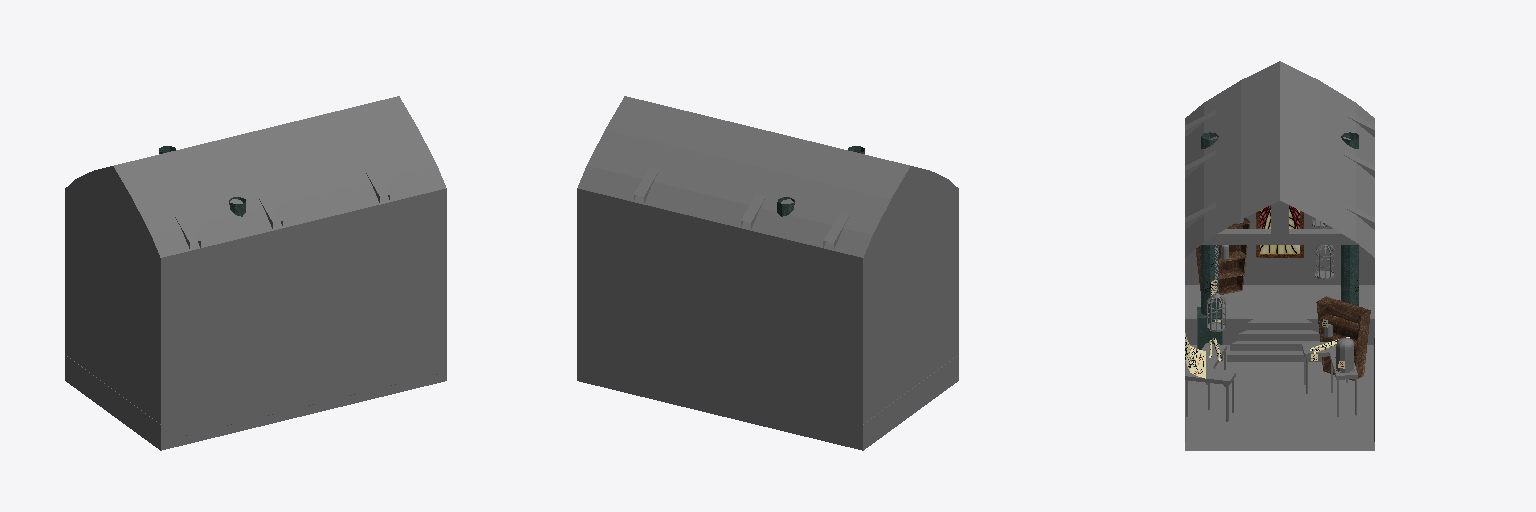
The picture shows the model from 3 angles: view 1: azimuth 30°, elevation 25°; view 2: azimuth 150°, elevation 25°; view 3: azimuth 270°, elevation 25°; orthographic projection.
Visible parts, largest first — view 1: SongBG Walls, SongBG Ceiling; view 2: SongBG Walls, SongBG Ceiling; view 3: SongBG Ceiling, SongBG Floor, SongBG Stairs, SongBG Walls, SongBG Bookshelf1, SongBG CeilingSupport1, SongBG Pillar1, SongBG Bookshelf, SongBG Pillar2, SongBG StainedGlass, SongBG CeilingSupport3, SongBG pCube4 Table1 (+3 smaller).
Boxes of the visible parts, x1=… form: SongBG Walls: x1=65, y1=166, x2=446, y2=450; SongBG Ceiling: x1=114, y1=96, x2=445, y2=257; SongBG Walls: x1=577, y1=166, x2=958, y2=450; SongBG Ceiling: x1=578, y1=96, x2=909, y2=257; SongBG Ceiling: x1=1185, y1=61, x2=1374, y2=257; SongBG Floor: x1=1185, y1=345, x2=1374, y2=450; SongBG Stairs: x1=1185, y1=285, x2=1374, y2=361; SongBG Walls: x1=1185, y1=213, x2=1374, y2=284; SongBG Bookshelf1: x1=1316, y1=296, x2=1370, y2=380; SongBG CeilingSupport1: x1=1201, y1=229, x2=1358, y2=244; SongBG Pillar1: x1=1197, y1=132, x2=1222, y2=360; SongBG Bookshelf: x1=1196, y1=218, x2=1250, y2=294; SongBG Pillar2: x1=1341, y1=132, x2=1362, y2=307; SongBG StainedGlass: x1=1256, y1=205, x2=1303, y2=257; SongBG CeilingSupport3: x1=1185, y1=201, x2=1374, y2=233; SongBG pCube4 Table1: x1=1185, y1=343, x2=1235, y2=384.
Size of the model in its own units: 6.97 by 5.82 by 4.02.
5 materials, 2 textured.